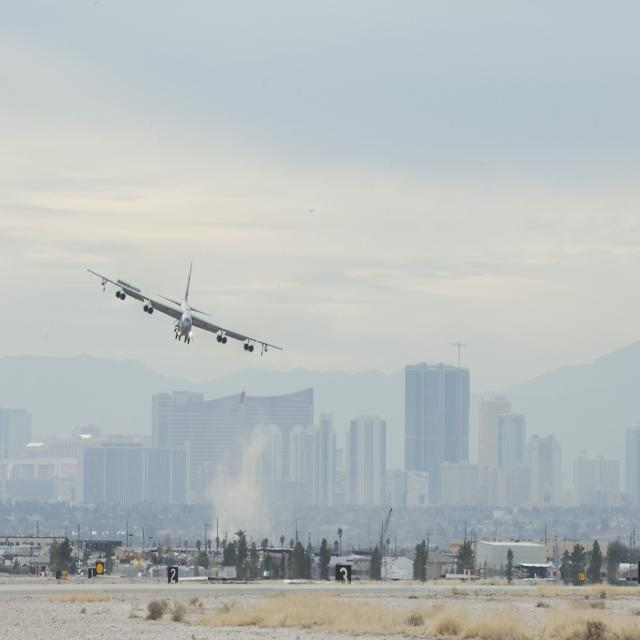MIL_Plane: (87, 68, 282, 165)
